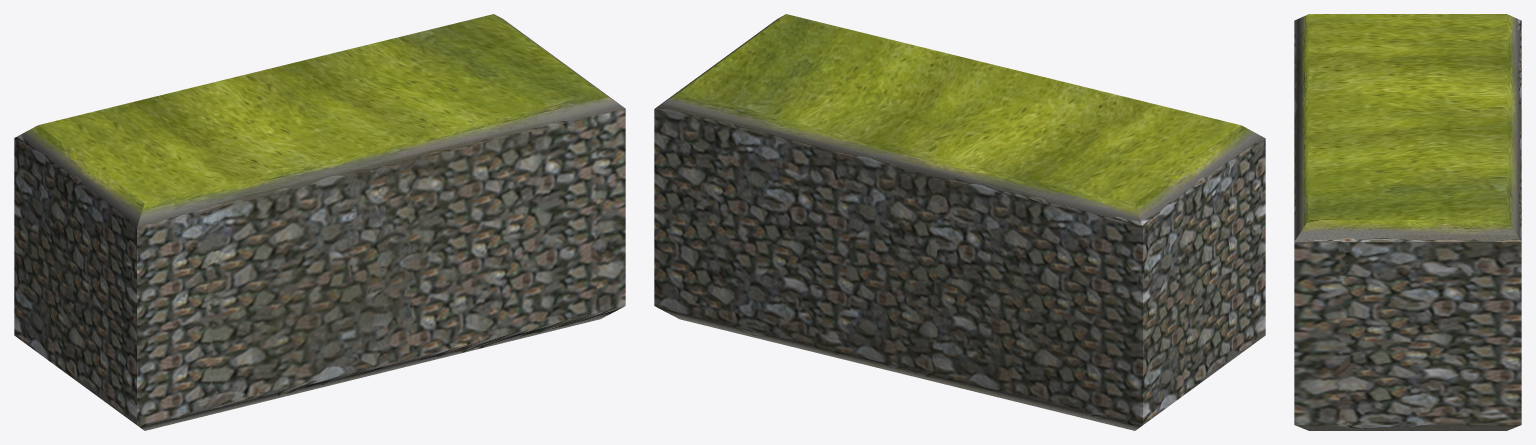
Rendered from Temple_Wall_Cap_Short_02.fbx.
The picture shows the model from 3 angles, left to right: view 1: azimuth 30°, elevation 25°; view 2: azimuth 150°, elevation 25°; view 3: azimuth 270°, elevation 25°; orthographic projection. The views are drawn at different scales.
Parts seen in each view (by area): view 1: Wall; view 2: Wall; view 3: Wall.
Part boxes in pixels (x1=…): Wall: x1=14, y1=14, x2=625, y2=430; Wall: x1=654, y1=14, x2=1265, y2=430; Wall: x1=1294, y1=14, x2=1521, y2=430.
Size of the model in its own units: 2.76 by 1.23 by 1.2.
1 material, 1 textured.
